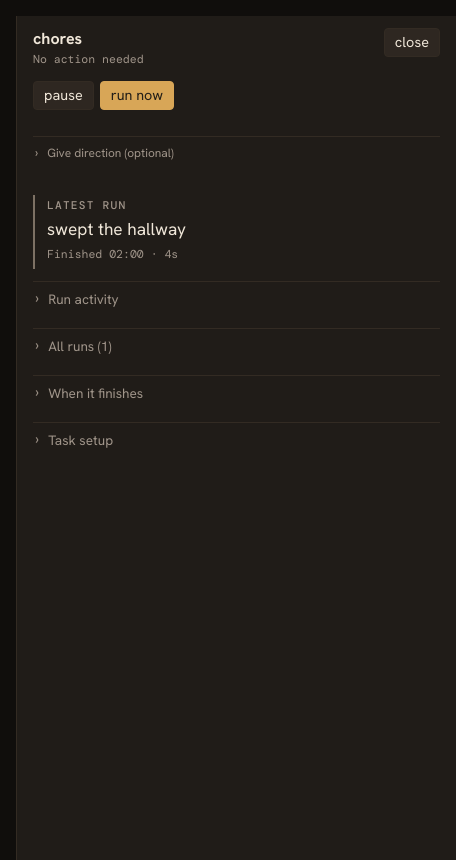
Test: activity stays folded and is fetched only when opened
Click the button "Run activity" at (83, 299), box 33,282 -> 440,316
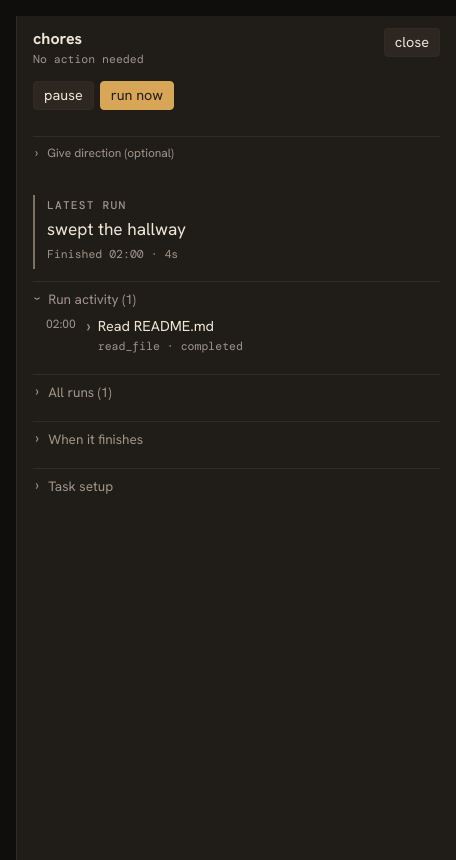
Expected: the button "Run activity (1)" is expanded, 33,282 -> 440,316
Expected: the button "Run activity (1)" is shown, 33,282 -> 440,316
Expected: the list with class "drawer-timeline" shows "README.md", 98,317 -> 214,335
